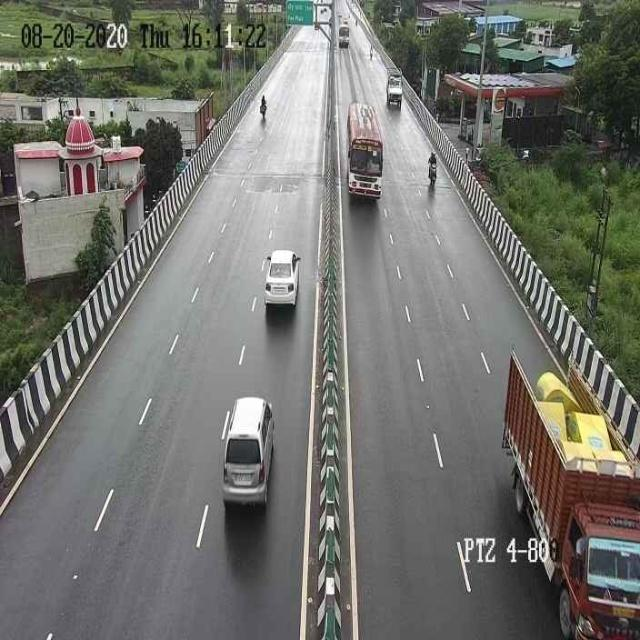car: (215, 390, 275, 524), (261, 243, 301, 315)
